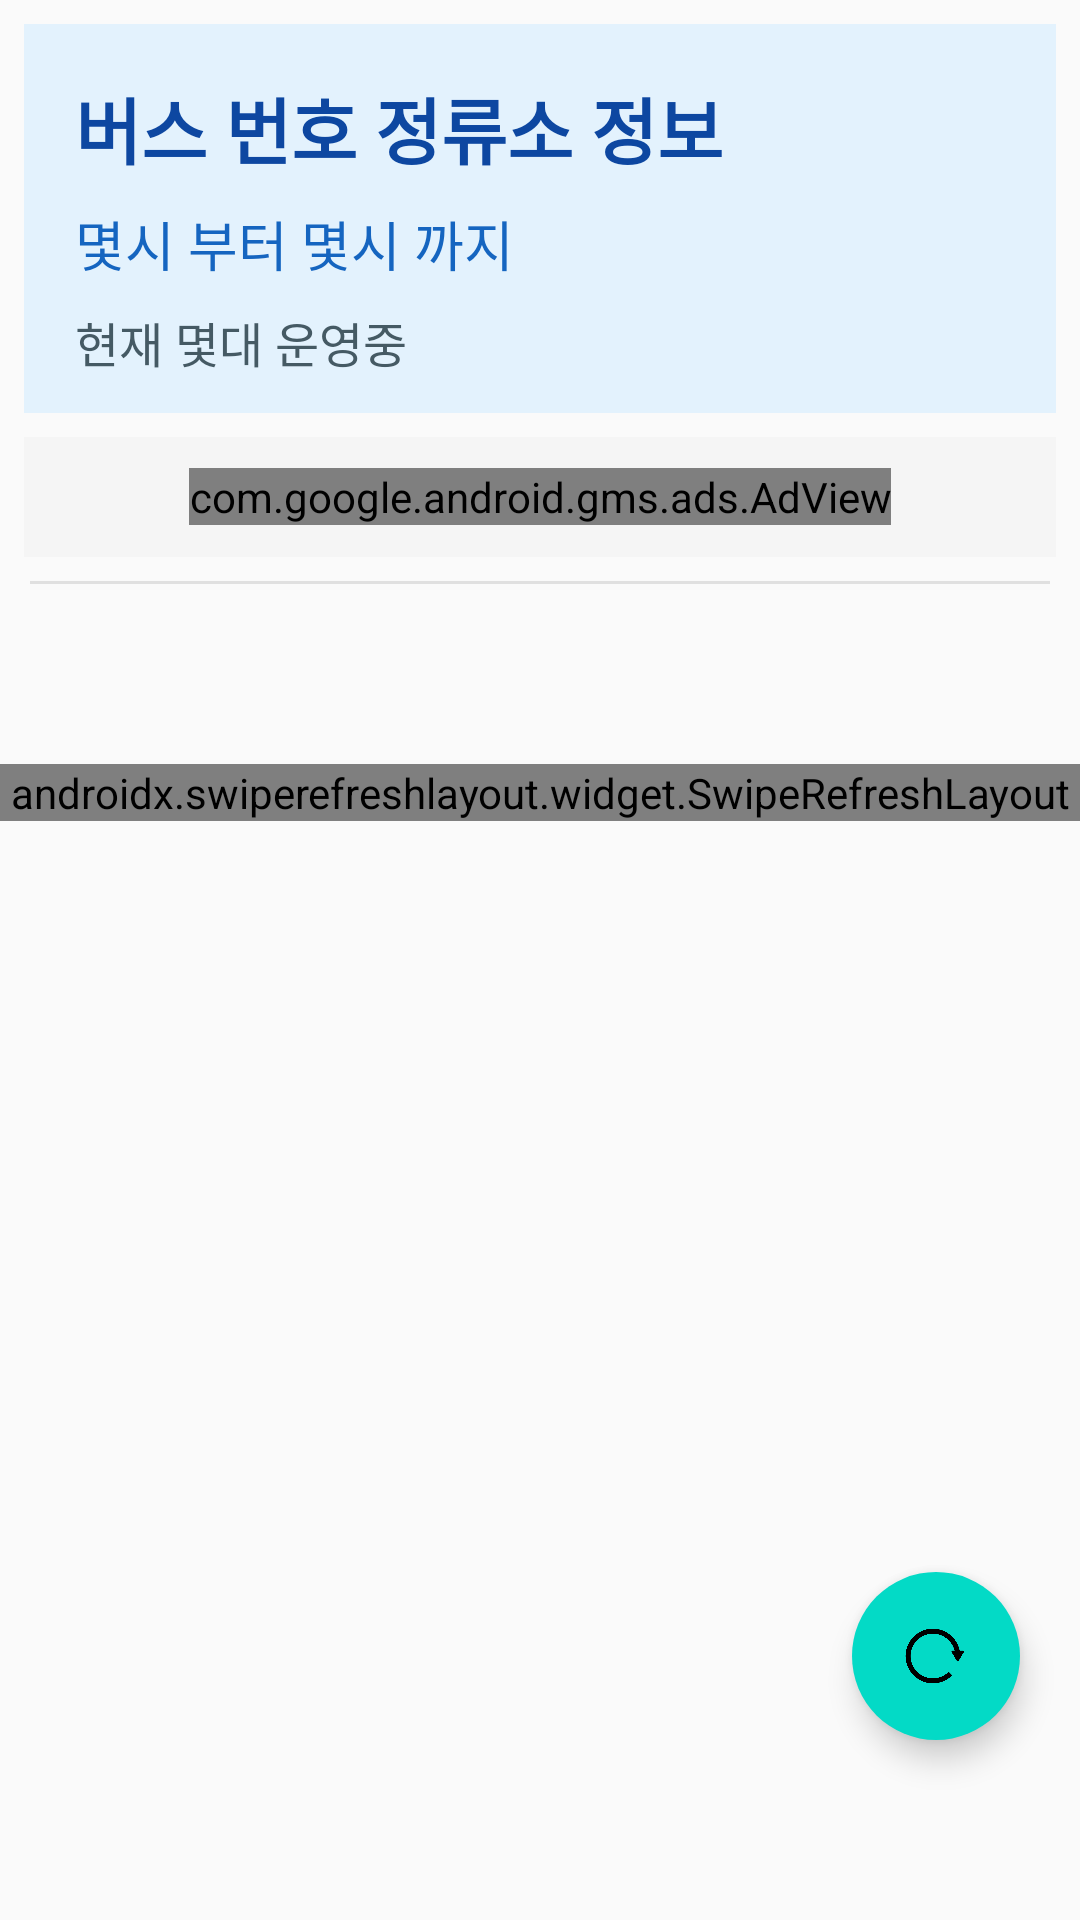

Named icons in this screenshot (1080px×1920px) and their centers, (x,y):
refresh: (936,1656)
